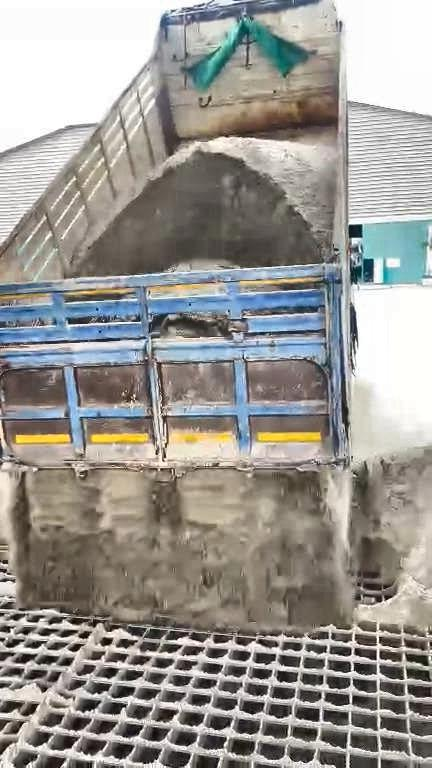sand: (1, 447, 432, 628), (64, 125, 346, 275)
